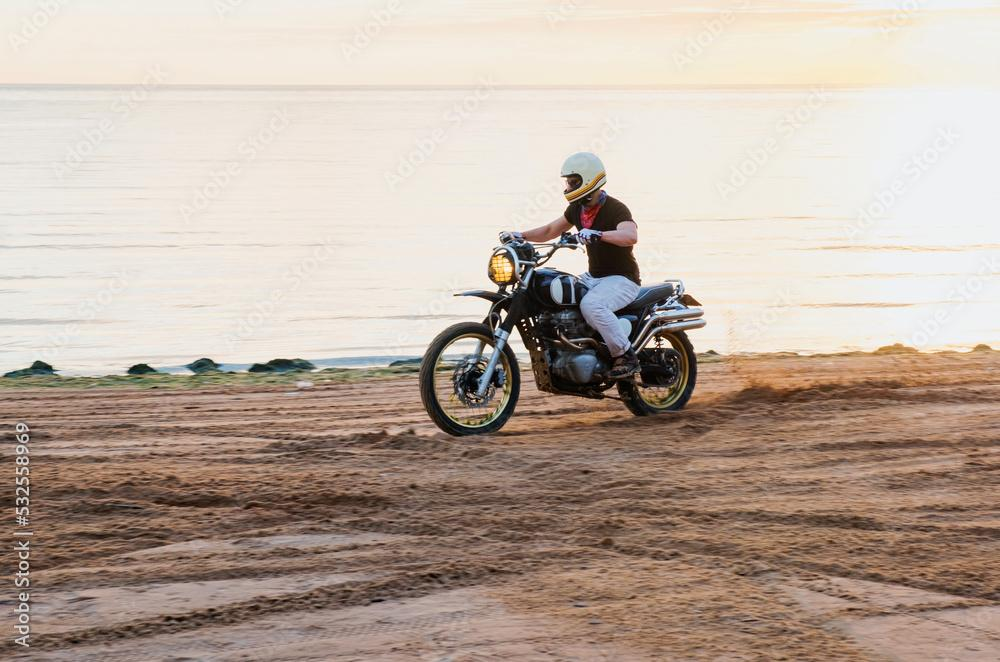helmet: (559, 151, 607, 206)
